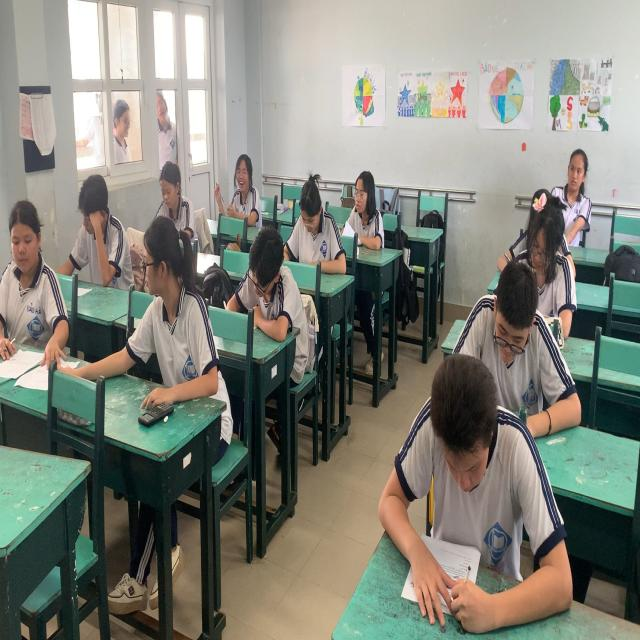cheating: (126, 217, 215, 411), (0, 186, 72, 373)
not_cheating: (363, 360, 571, 635), (460, 268, 583, 442), (221, 221, 307, 349), (507, 190, 572, 332), (65, 162, 134, 289), (291, 169, 350, 272), (147, 144, 202, 238), (212, 145, 270, 231), (342, 152, 382, 248), (556, 141, 590, 252)
